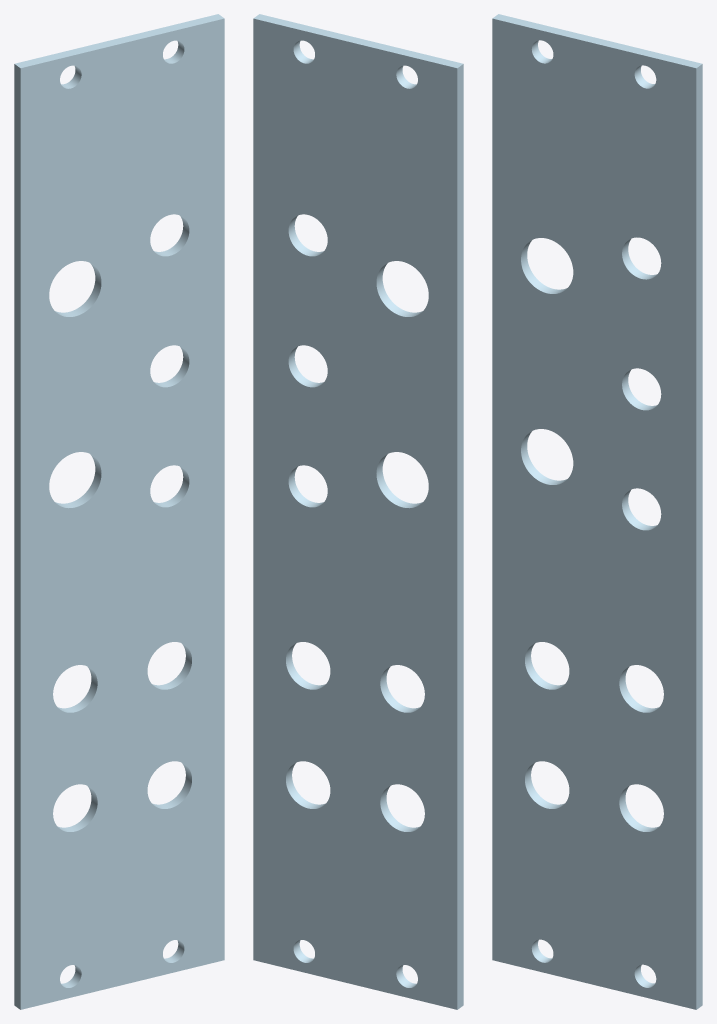
Rendered from Panel.gltf.
The picture shows the model from 3 angles, left to right: view 1: azimuth 30°, elevation 25°; view 2: azimuth 150°, elevation 25°; view 3: azimuth 330°, elevation 25°; orthographic projection.
Parts seen in each view (by area): view 1: Panel; view 2: Panel; view 3: Panel.
Boxes of the visible parts, x1,y1,x2,y2 form: Panel: [14, 14, 224, 1009]; Panel: [253, 14, 463, 1009]; Panel: [492, 14, 702, 1009].
Bounding box in the file's own units: 0.0302 × 0.1333 × 0.00159.
